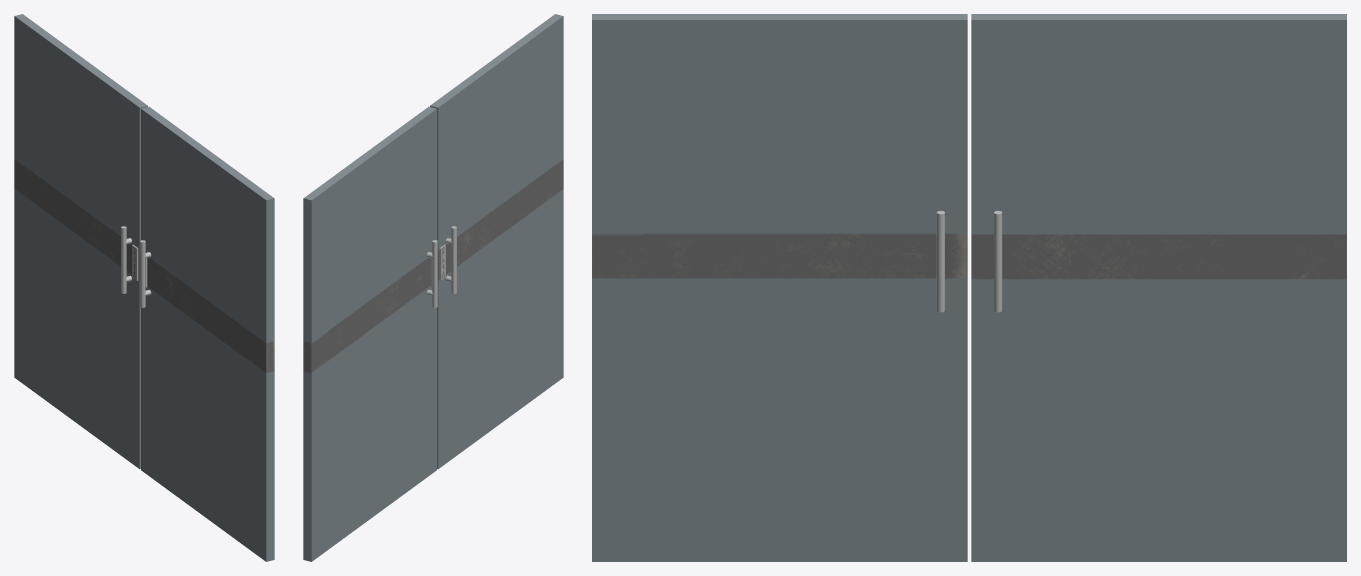
Rendered from GlassDoorText.fbx.
3 views of the same model, side by side, from view 1: azimuth 30°, elevation 25°; view 2: azimuth 150°, elevation 25°; view 3: azimuth 270°, elevation 25° (orthographic). The views are drawn at different scales.
Parts seen in each view (by area): view 1: GlassDoor (×2), Handle (×2); view 2: GlassDoor (×2), Handle (×2); view 3: GlassDoor (×2), Handle (×2).
Boxes of the visible parts, x1,y1,x2,y2 form: GlassDoor (×2): (14, 14, 274, 561); Handle (×2): (121, 226, 151, 307); GlassDoor (×2): (303, 14, 563, 561); Handle (×2): (426, 226, 456, 307); GlassDoor (×2): (592, 14, 1346, 561); Handle (×2): (936, 210, 1002, 312).
Size of the model in its own units: 0.1755 by 2.15 by 2.71.
Materials: 3 (3 with a texture image).
